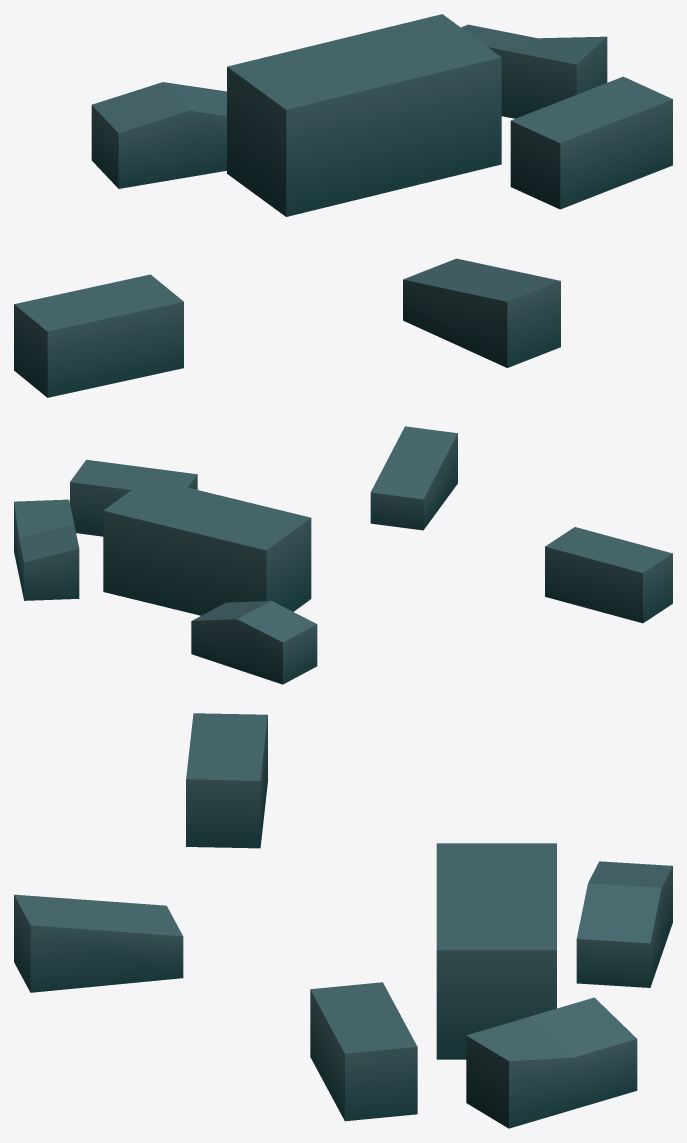
3 views of the same model, one above another, from view 1: azimuth 30°, elevation 25°; view 2: azimuth 150°, elevation 25°; view 3: azimuth 270°, elevation 25° (orthographic). The views are drawn at different scales.
Visible parts, largest first — view 1: Cube.053; view 2: Cube.053; view 3: Cube.053.
Boxes of the visible parts, x1,y1,x2,y2 form: Cube.053: (14, 14, 672, 397); Cube.053: (14, 426, 672, 684); Cube.053: (14, 713, 672, 1128).
Bounding box in the file's own units: 13.96 × 2.17 × 10.94.
